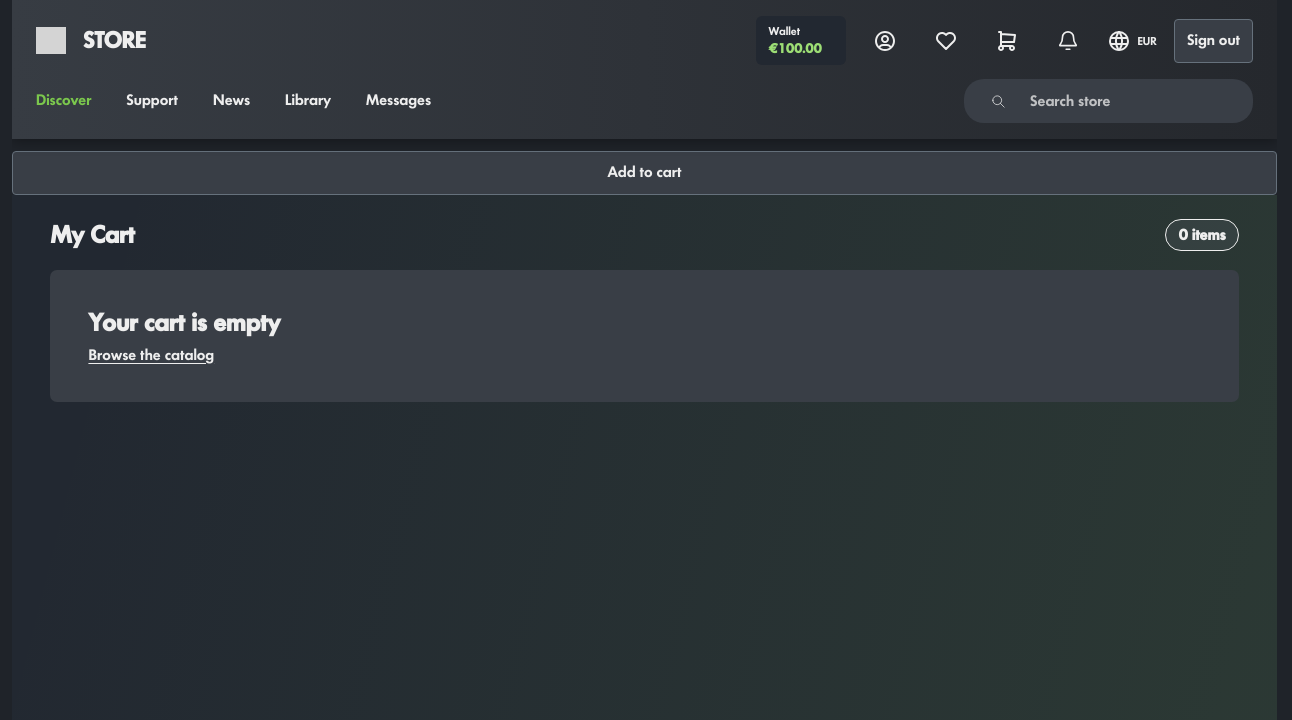
it: still rejects a server response in the wrong currency
Click the button "Add to cart" at (644,173), box [12, 151, 1277, 195]
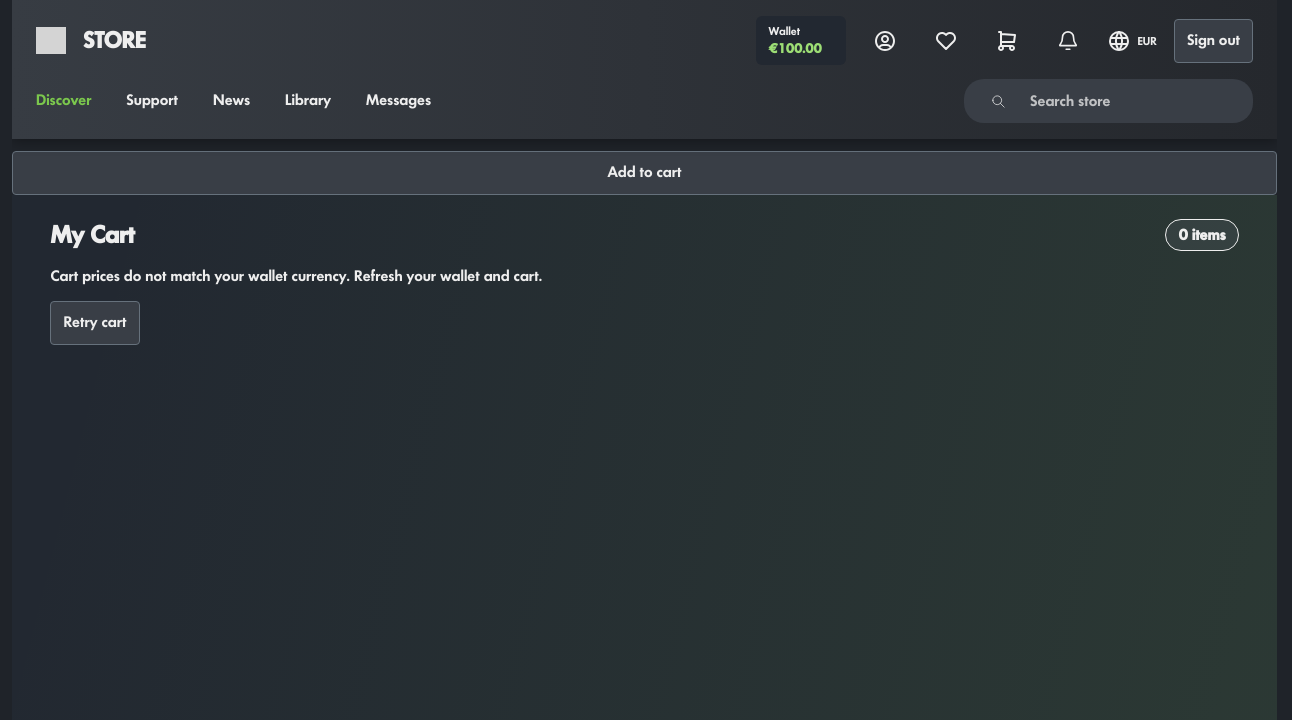
Expected: the message shows "Cart prices do not match your wallet currency.", [50, 268, 542, 284]
